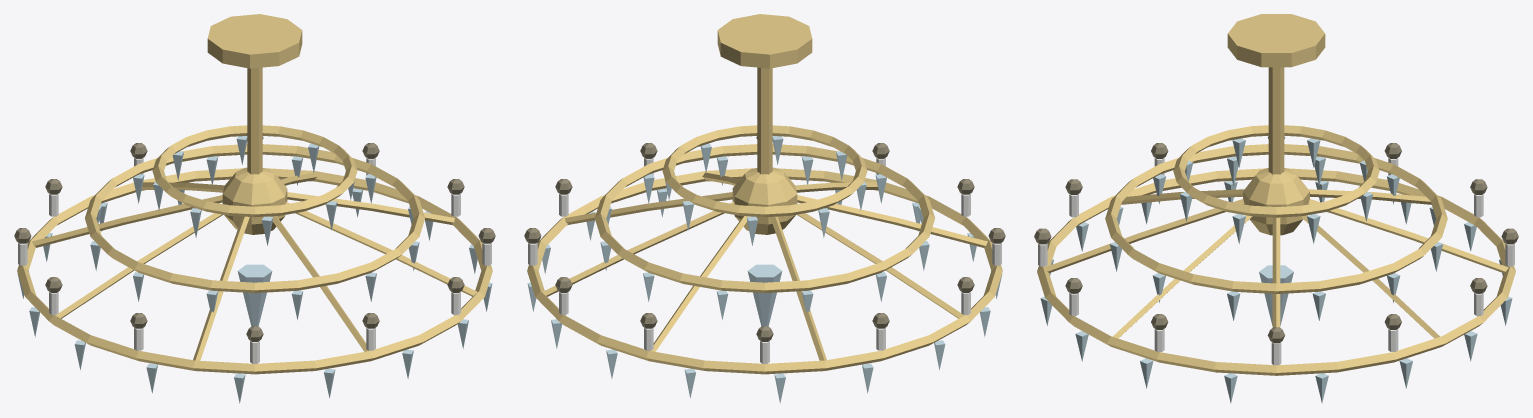
File: CR_Lampara.fbx
3 views of the same model, side by side, from view 1: azimuth 30°, elevation 25°; view 2: azimuth 150°, elevation 25°; view 3: azimuth 270°, elevation 25° (orthographic).
Parts seen in each view (by area): view 1: CR_Lampara; view 2: CR_Lampara; view 3: CR_Lampara.
Part boxes in pixels (x1,y1,x2,y2): CR_Lampara: [14, 14, 495, 403]; CR_Lampara: [524, 14, 1005, 403]; CR_Lampara: [1034, 14, 1518, 403].
Bounding box in the file's own units: 2.48 × 1.75 × 2.49.
